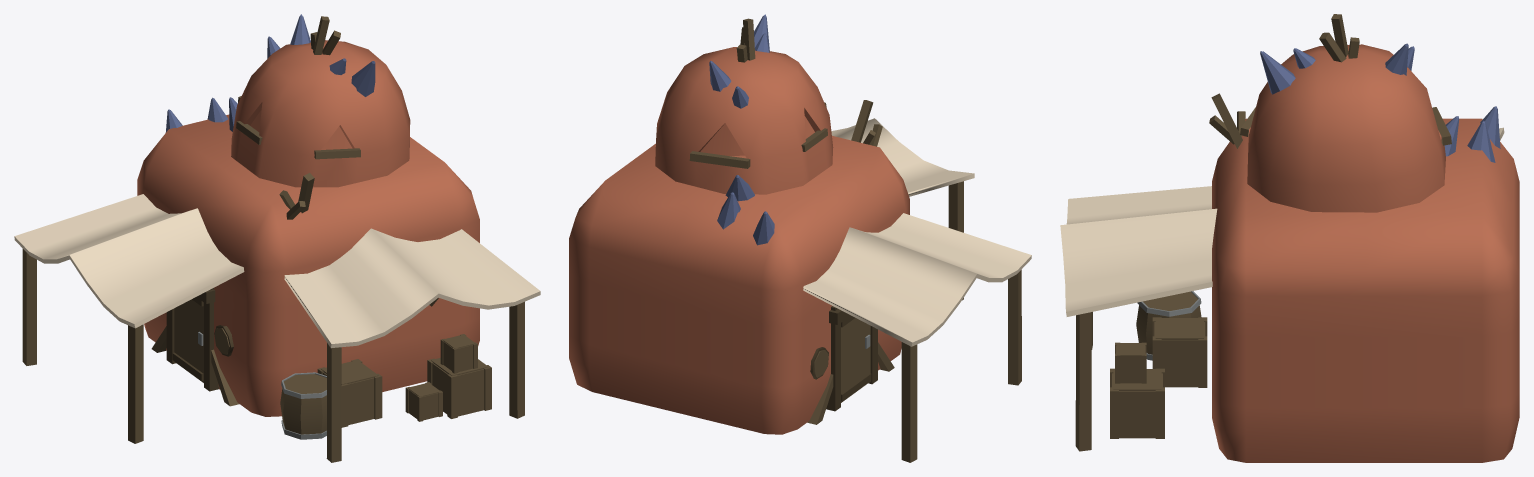
File: House_02.fbx
The picture shows the model from 3 angles, left to right: view 1: azimuth 30°, elevation 25°; view 2: azimuth 150°, elevation 25°; view 3: azimuth 270°, elevation 25°; orthographic projection. The views are drawn at different scales.
Visible parts, largest first — view 1: House_02_Main, House_02_Dome, House_02_Cloth1, House_02_Cloth, Crate_Body (×4), Barrel, pCube2, pCube45, pCube11, Crate_Corners (×2), pCube46, pCube1 (+3 smaller); view 2: House_02_Main, House_02_Dome, House_02_Cloth, House_02_Cloth1, pCube1, pCube11, pCube2, pCube9, pCube46, pCube38, pCube22, pCube42 (+1 smaller); view 3: House_02_Main, House_02_Dome, House_02_Cloth1, Crate_Body (×3), pCube45, Crate_Corners (×2), Barrel, Crate_Lids (×2), pCube25, pCube22, pCube41, pCube24.
Part boxes in pixels (x1,y1,x2,y2): House_02_Main: (137, 114, 479, 416); House_02_Dome: (231, 40, 410, 187); House_02_Cloth1: (284, 228, 540, 348); House_02_Cloth: (14, 194, 244, 328); Crate_Body (×4): (322, 341, 484, 424); Barrel: (280, 372, 326, 439); pCube2: (128, 324, 143, 443); pCube45: (509, 301, 524, 418); pCube11: (174, 299, 203, 382); Crate_Corners (×2): (317, 358, 491, 427); pCube46: (326, 343, 341, 462); pCube1: (22, 249, 36, 365); House_02_Main: (569, 136, 909, 434); House_02_Dome: (655, 47, 833, 194); House_02_Cloth: (803, 213, 1031, 346); House_02_Cloth1: (831, 118, 974, 196); pCube1: (901, 342, 917, 462); pCube11: (841, 318, 870, 402); pCube2: (1008, 270, 1021, 385); pCube9: (826, 306, 840, 411); pCube46: (948, 181, 963, 300); pCube38: (689, 151, 750, 168); pCube22: (717, 192, 740, 229); pCube42: (753, 211, 774, 245); House_02_Main: (1212, 118, 1519, 462); House_02_Dome: (1247, 44, 1445, 212); House_02_Cloth1: (1060, 186, 1217, 316); Crate_Body (×3): (1112, 322, 1205, 437); pCube45: (1075, 312, 1091, 451); Crate_Corners (×2): (1110, 317, 1207, 438); Barrel: (1136, 291, 1201, 360); Crate_Lids (×2): (1113, 318, 1203, 438); pCube25: (1260, 51, 1295, 94); pCube22: (1467, 121, 1495, 162); pCube41: (1211, 93, 1242, 148); pCube24: (1385, 43, 1408, 75).
Bounding box in the file's own units: 629 × 577 × 616.
